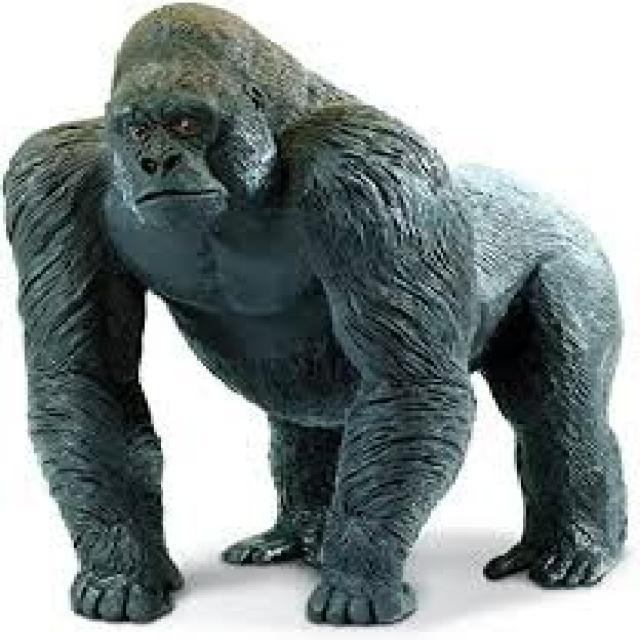Gorilla: (5, 2, 626, 621)
